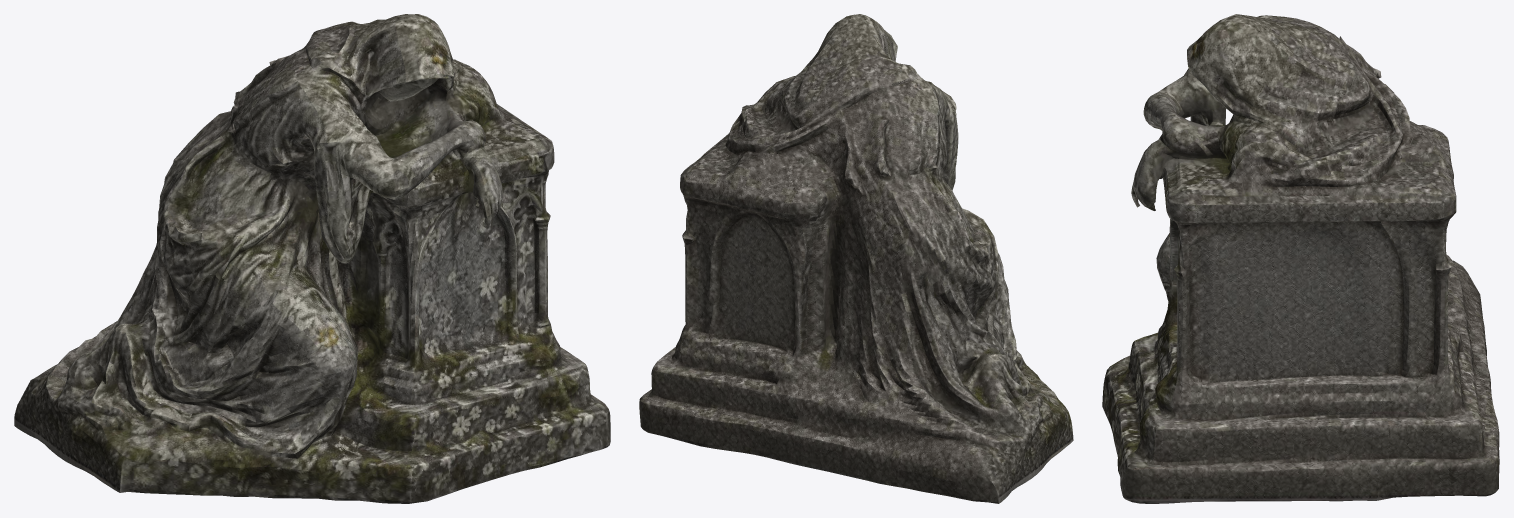
The picture shows the model from 3 angles, left to right: view 1: azimuth 30°, elevation 25°; view 2: azimuth 150°, elevation 25°; view 3: azimuth 270°, elevation 25°; orthographic projection. The views are drawn at different scales.
Visible parts, largest first — view 1: m3.glb; view 2: m3.glb; view 3: m3.glb.
Part boxes in pixels (x1,y1,x2,y2): m3.glb: (14, 14, 610, 503); m3.glb: (639, 14, 1073, 503); m3.glb: (1102, 14, 1499, 503).
Bounding box in the file's own units: 1.86 × 1.75 × 1.51.
1 material, 1 textured.
